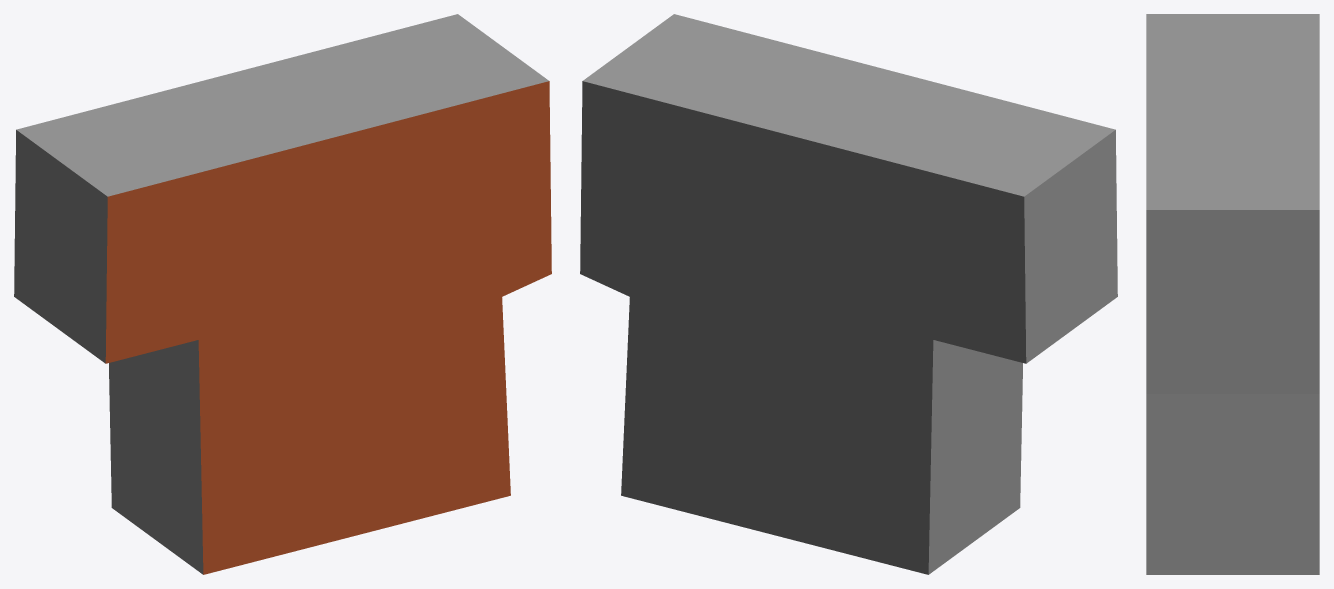
Rendered from construction_4471_assumed_A_Casa_h6m.obj.
3 views of the same model, side by side, from view 1: azimuth 30°, elevation 25°; view 2: azimuth 150°, elevation 25°; view 3: azimuth 270°, elevation 25° (orthographic). The views are drawn at different scales.
Visible parts, largest first — view 1: construction_4471_assumed_A_Casa; view 2: construction_4471_assumed_A_Casa; view 3: construction_4471_assumed_A_Casa.
Part boxes in pixels (x1,y1,x2,y2): construction_4471_assumed_A_Casa: [14, 14, 551, 574]; construction_4471_assumed_A_Casa: [580, 14, 1117, 574]; construction_4471_assumed_A_Casa: [1146, 14, 1319, 574].
Size of the model in its own units: 16.87 by 14.8 by 6.
